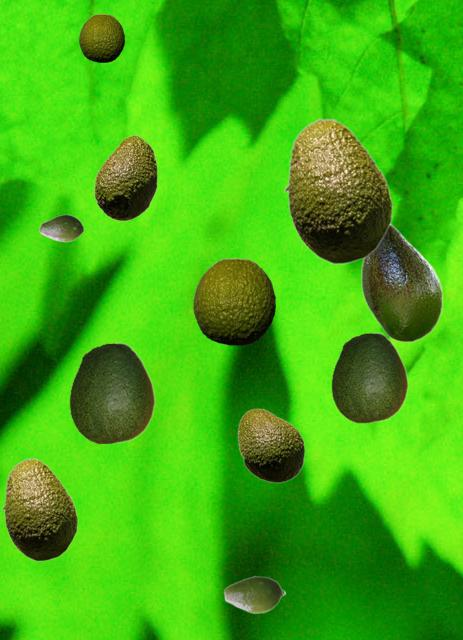avocado: (283, 118, 392, 263), (361, 224, 442, 341), (69, 342, 154, 443), (1, 458, 77, 560), (193, 258, 274, 344), (331, 332, 407, 422), (94, 135, 156, 220), (237, 408, 304, 482), (223, 575, 285, 613), (79, 14, 123, 61), (39, 214, 83, 241)
